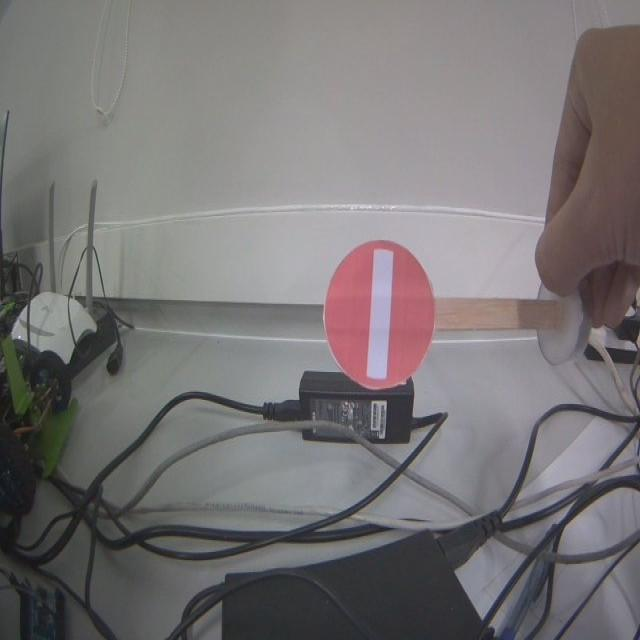Dilarang Masuk: (324, 240, 435, 389)
